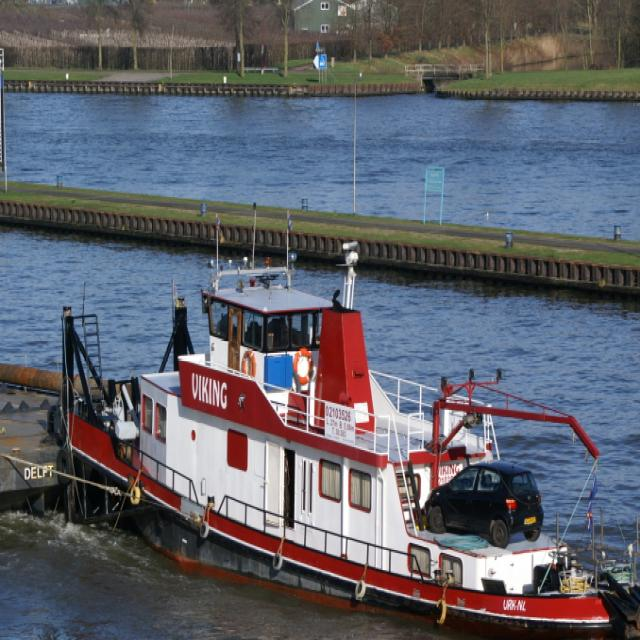tugboat: (47, 235, 640, 640)
